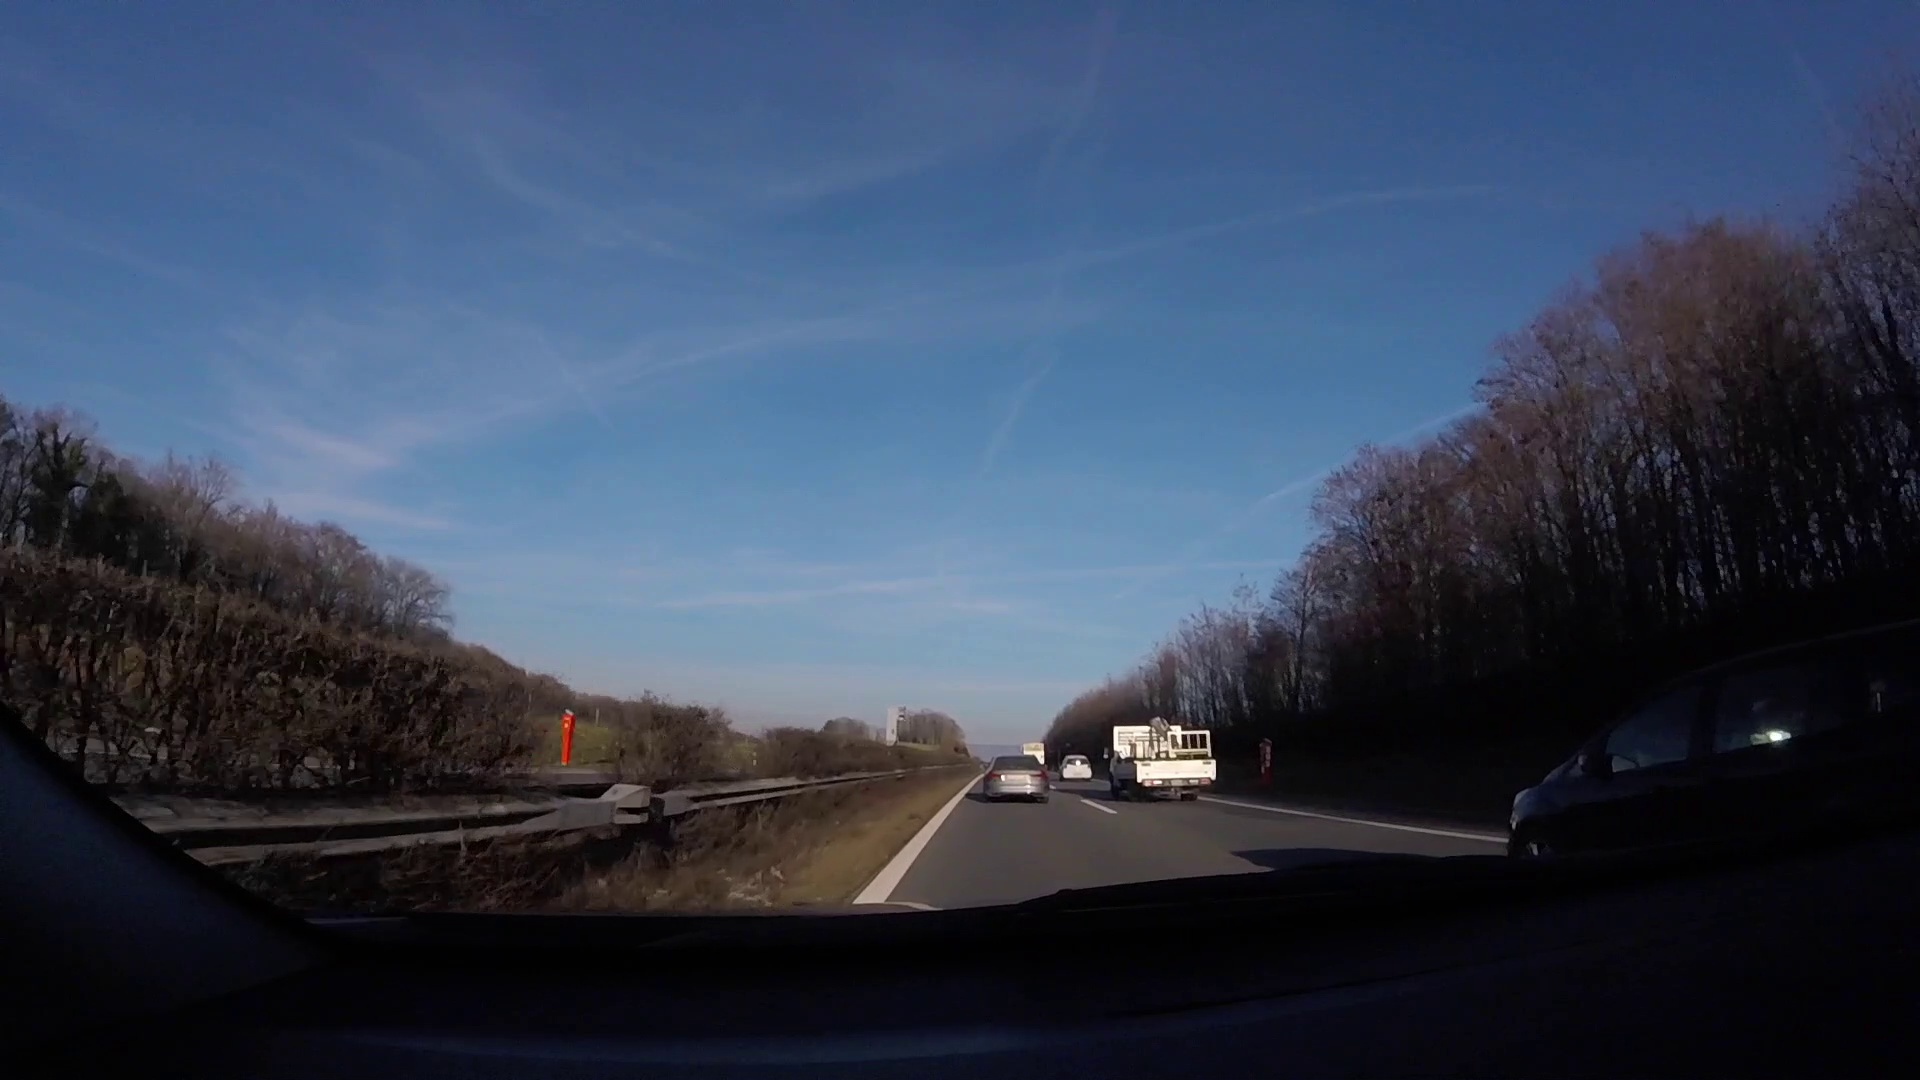radar: (885, 705, 909, 749)
